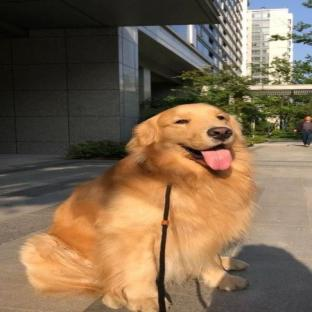Animal: (20, 103, 254, 312)
